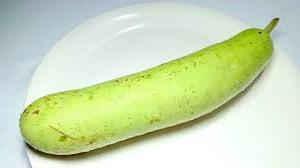bottle gourd: (18, 15, 280, 155)
